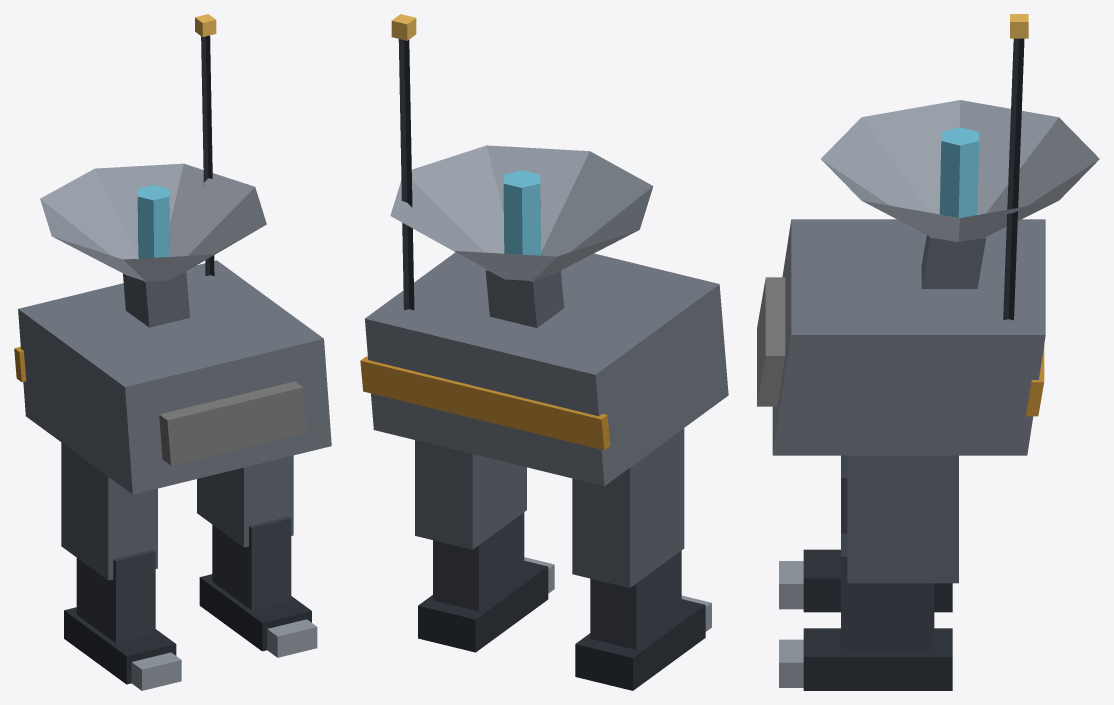
Rendered from hound-attack-0.obj.
The picture shows the model from 3 angles, left to right: view 1: azimuth 30°, elevation 25°; view 2: azimuth 150°, elevation 25°; view 3: azimuth 270°, elevation 25°; orthographic projection. The views are drawn at different scales.
Parts seen in each view (by area): view 1: hound-attack-0; view 2: hound-attack-0; view 3: hound-attack-0.
Boxes of the visible parts, x1=… form: hound-attack-0: x1=14, y1=14, x2=331, y2=690; hound-attack-0: x1=360, y1=14, x2=728, y2=690; hound-attack-0: x1=757, y1=14, x2=1099, y2=690.
Bounding box in the file's own units: 0.92 × 2.36 × 1.1.
